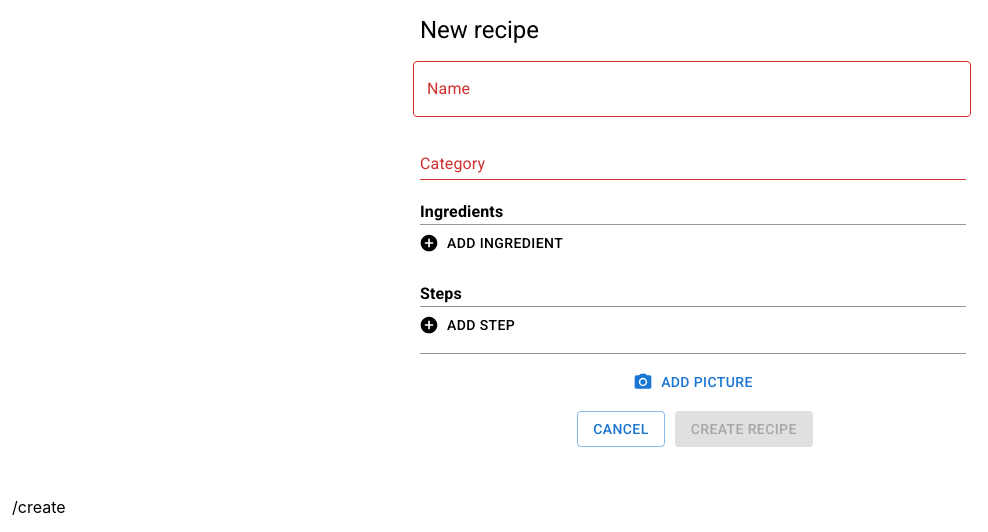
Test case: RecipeEditor › a new recipe › starts empty, and needs a name and a category
The width and height of the screenshot is (988, 532).
expect the heading "New recipe" is shown: met, box [420, 16, 539, 44]
expect the button "Create Recipe" is disabled: met, box [675, 410, 813, 447]
Type "Guláš" into the field labelled "Name" at (692, 89), box [413, 61, 971, 117]
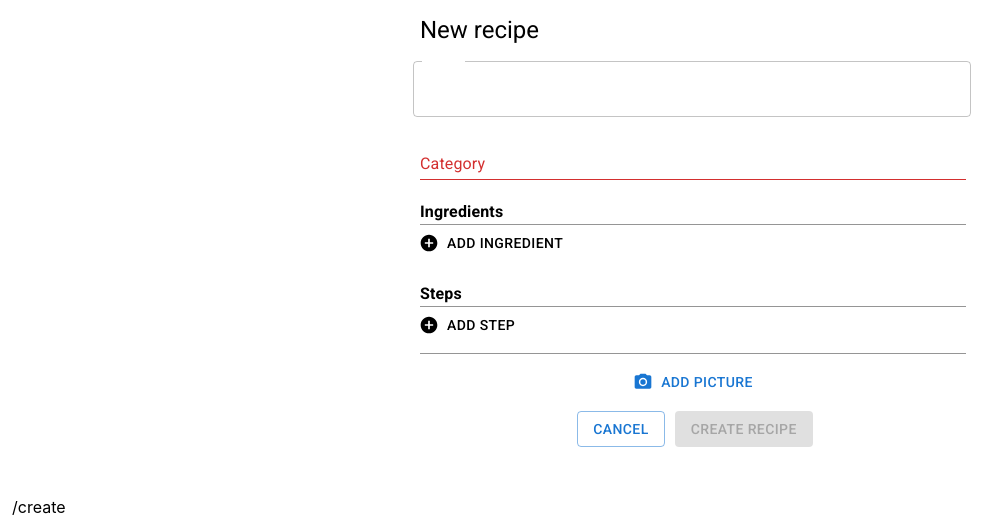
expect the button "Create Recipe" is disabled: met, box [675, 410, 813, 447]
Type "Maso" into the dropdown labelled "Category" at (678, 164), box [420, 148, 936, 179]
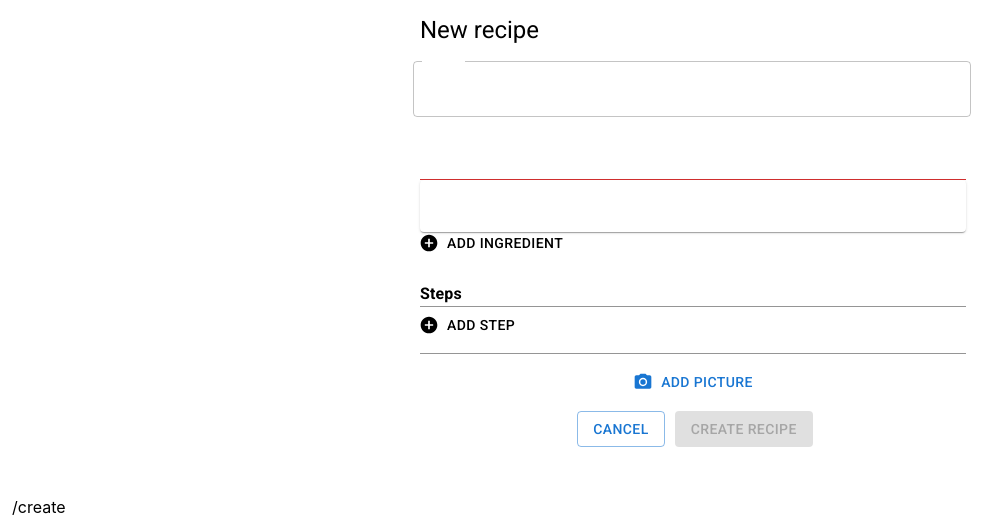
Press Enter in the dropdown labelled "Category", box [420, 148, 936, 179]
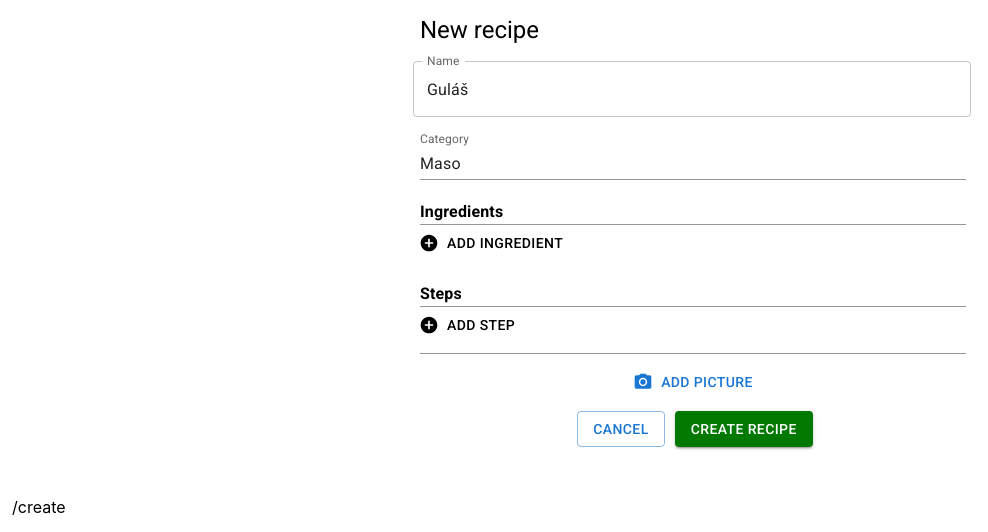
expect the button "Create Recipe" is enabled: met, box [675, 410, 813, 447]
